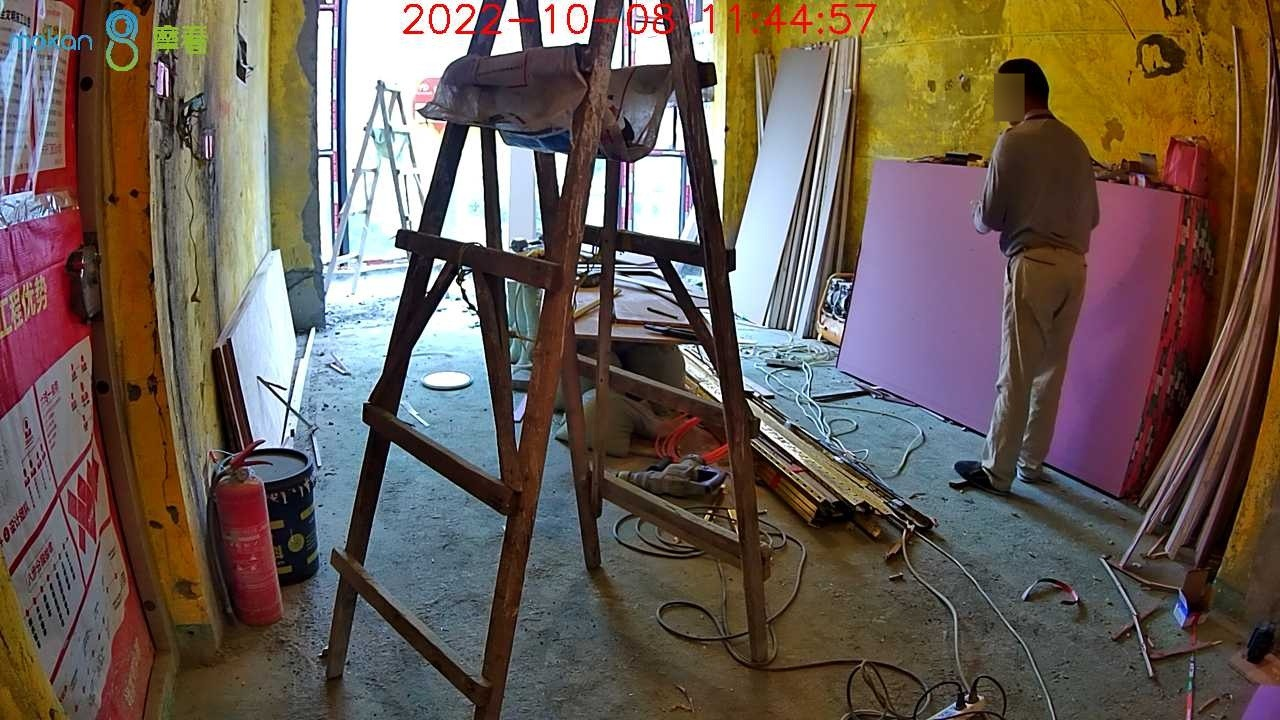people: (954, 59, 1103, 491)
window: (317, 2, 708, 249)
